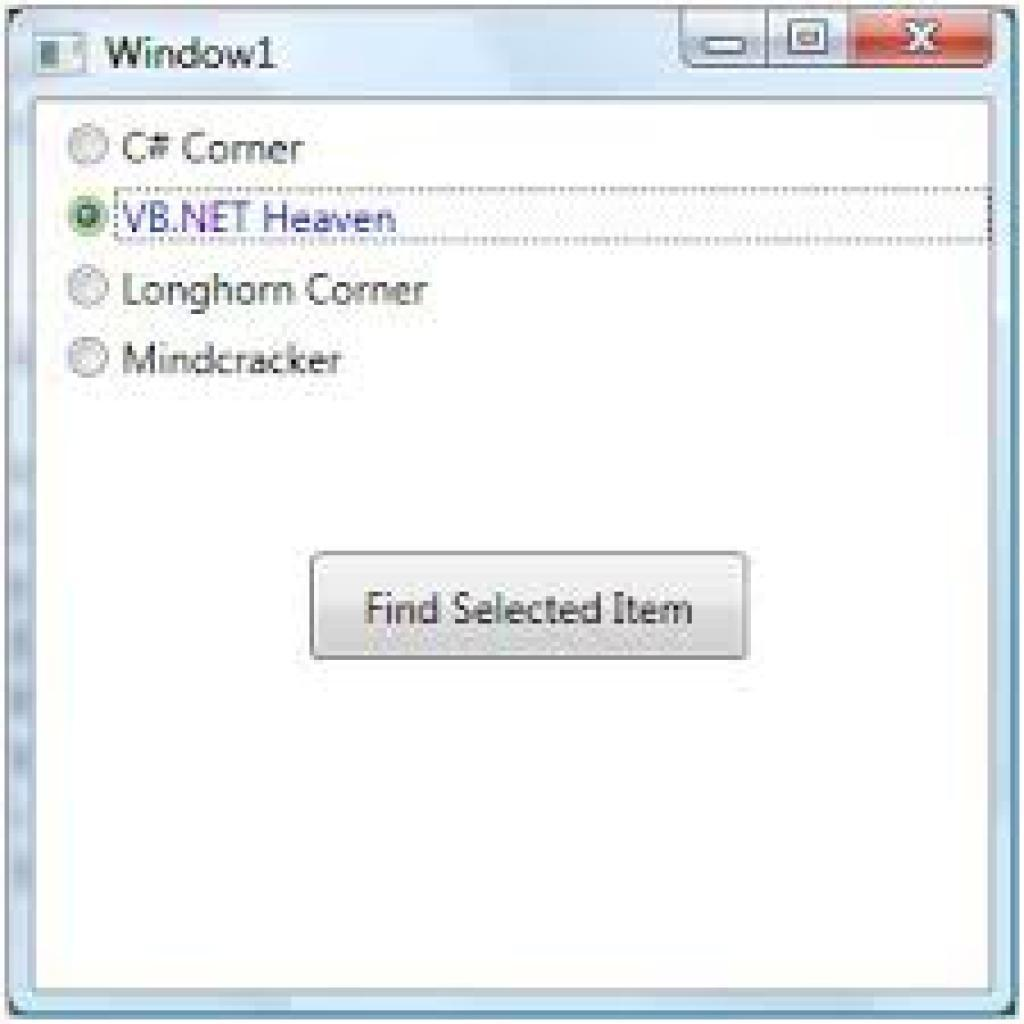button: (311, 553, 747, 659)
radio: (67, 261, 113, 314), (66, 122, 111, 171), (65, 335, 111, 381), (68, 192, 111, 237)
